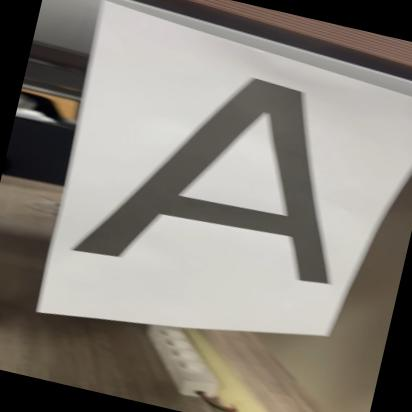seat: (67, 37, 388, 323)
